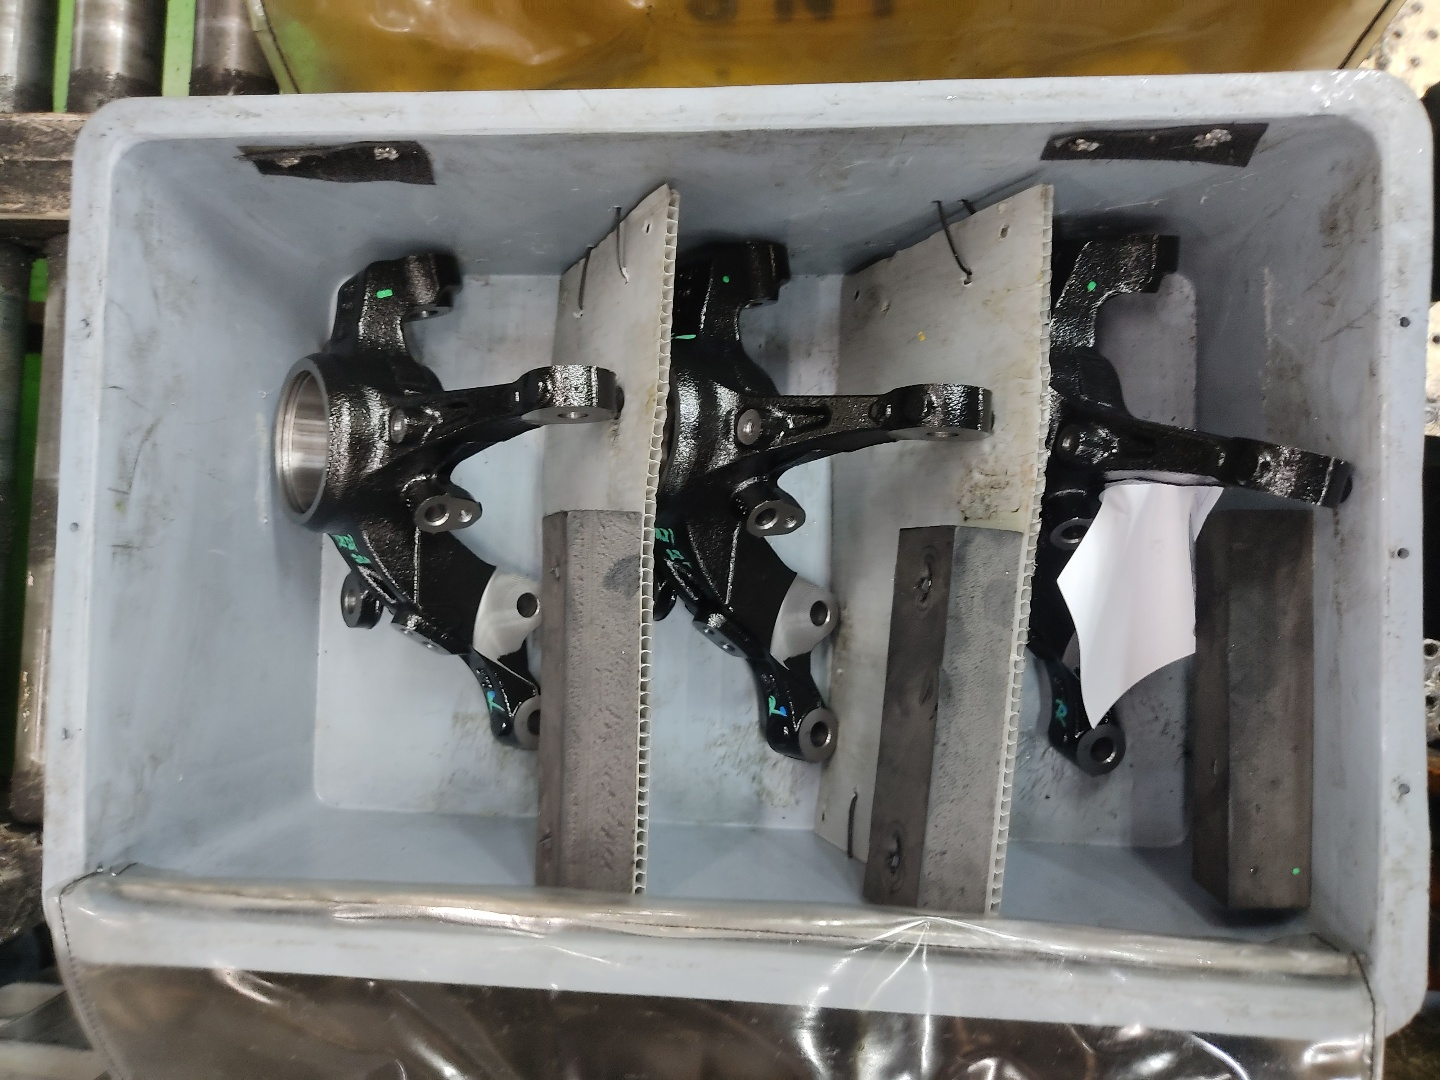abs-rh: (260, 234, 626, 771), (1024, 223, 1362, 788), (653, 228, 999, 773)
